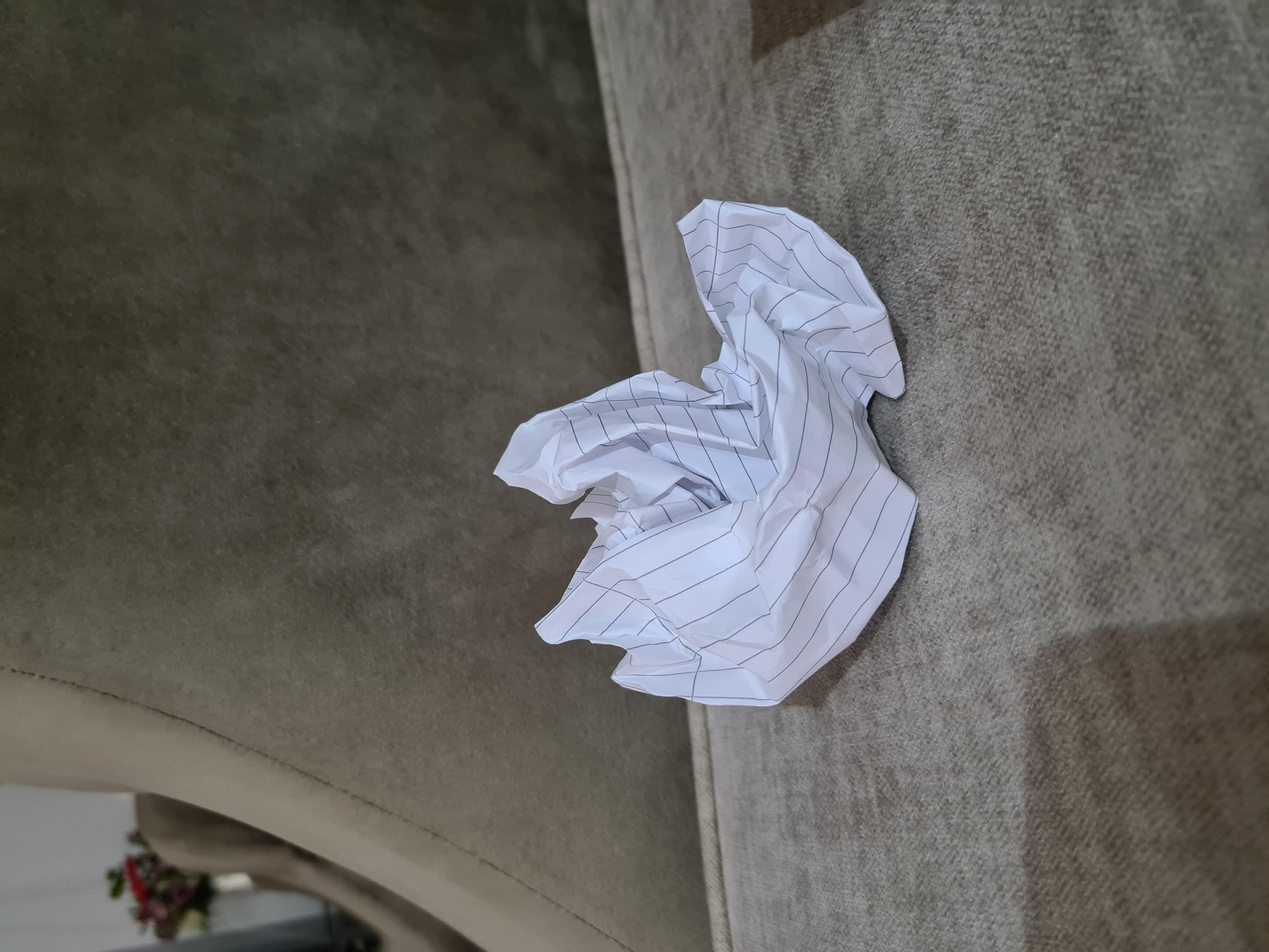paper: (295, 374, 1008, 690)
